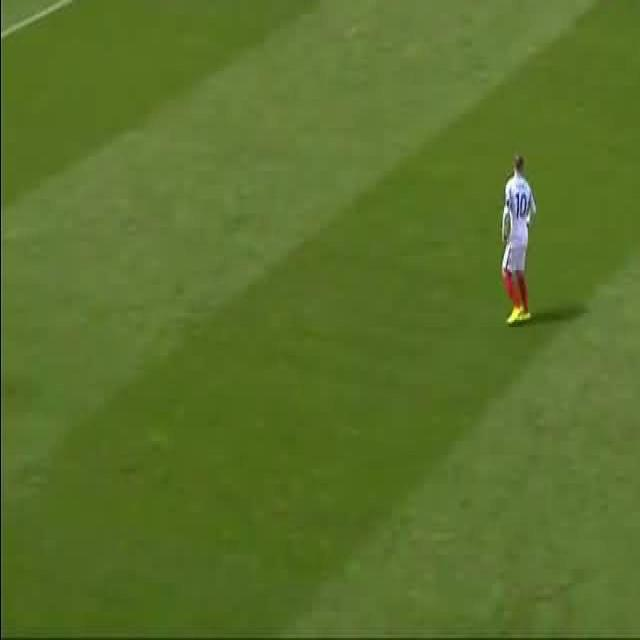player-white: (501, 157, 535, 326), (639, 0, 640, 112)
